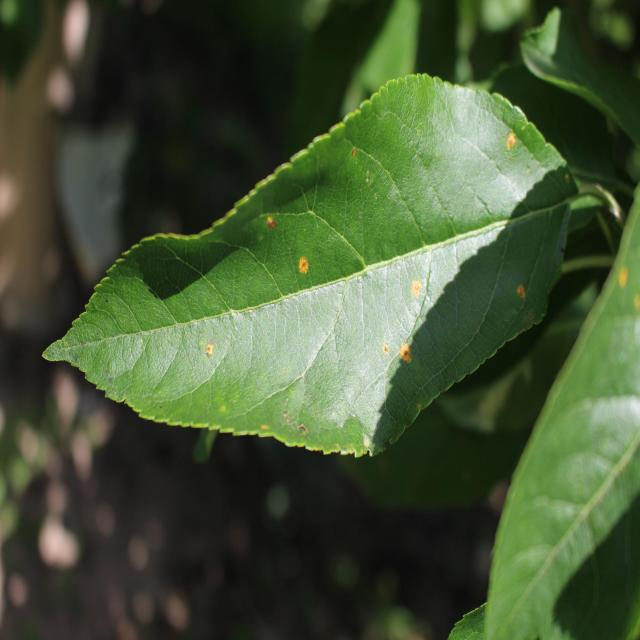Rust: (382, 319, 418, 376), (253, 200, 289, 246), (195, 326, 227, 373), (388, 272, 431, 299), (286, 249, 318, 284), (506, 269, 537, 303), (495, 126, 526, 154), (289, 413, 313, 441)
